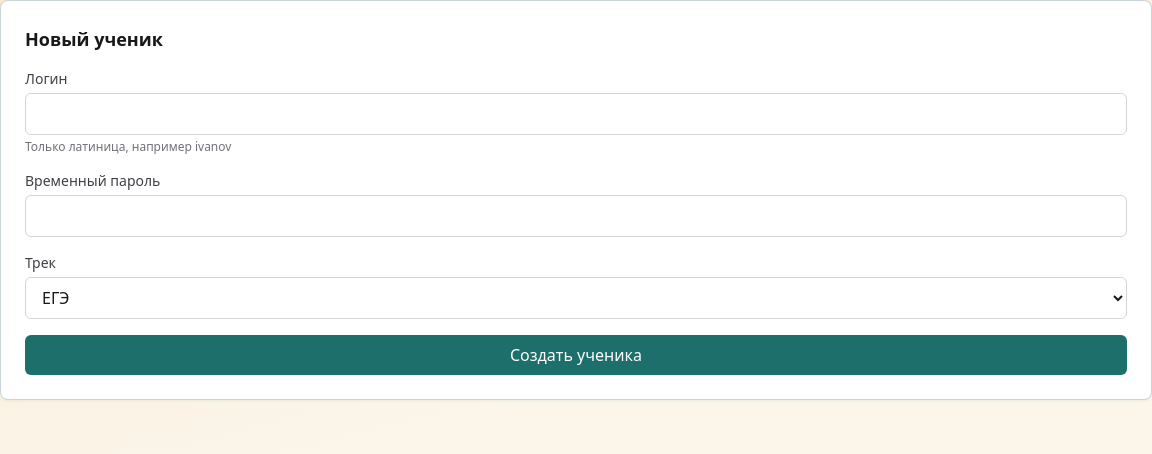
Test: CreateStudentForm › shows a friendly message on 403
This screenshot has width=1152, height=454.
Type "ivanov" into the field labelled "Логин" at (576, 114), box [25,93,1127,135]
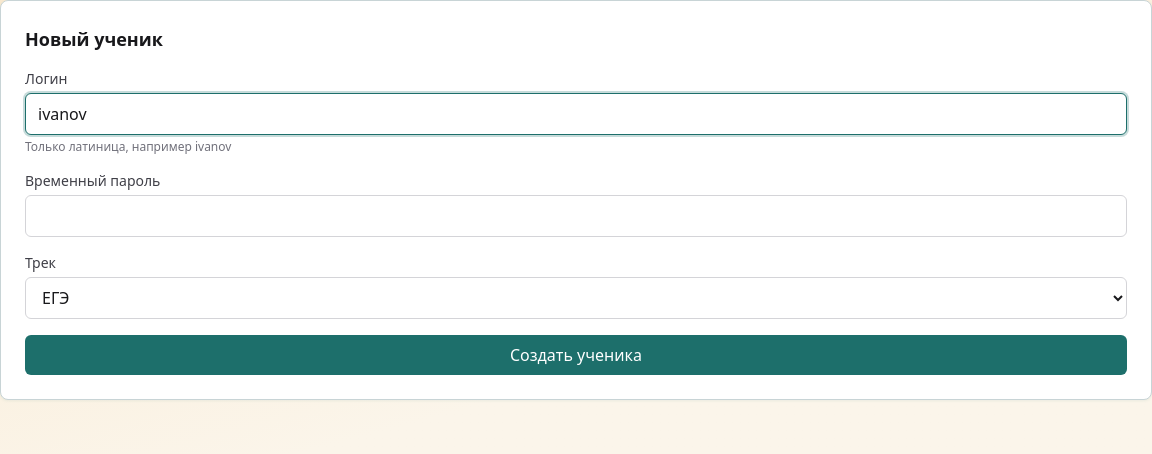
Type "secret1" into the password field labelled "Временный пароль" at (576, 216), box [25,195,1127,237]
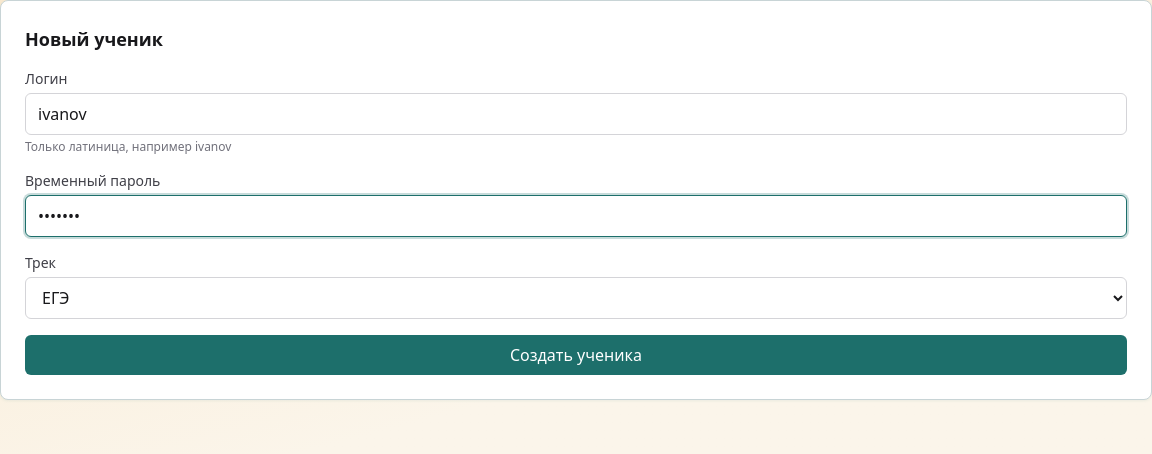
Select "ОГЭ" in the dropdown labelled "Трек" at (576, 298), box [25,277,1127,319]
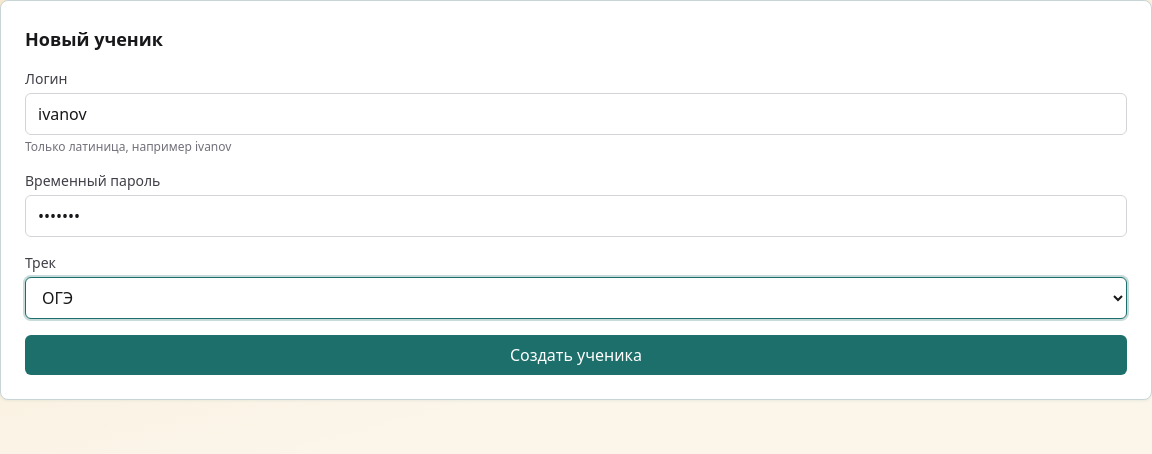
Click the button "Создать ученика" at (576, 355), box [25,335,1127,375]
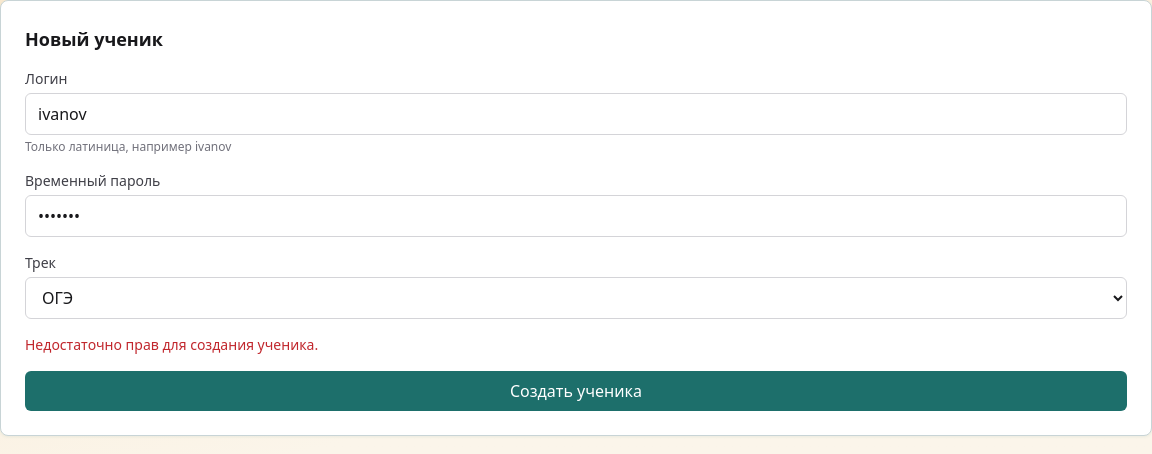
expect the message reads "Недостаточно прав для создания ученика.": met, box [25,335,318,354]
